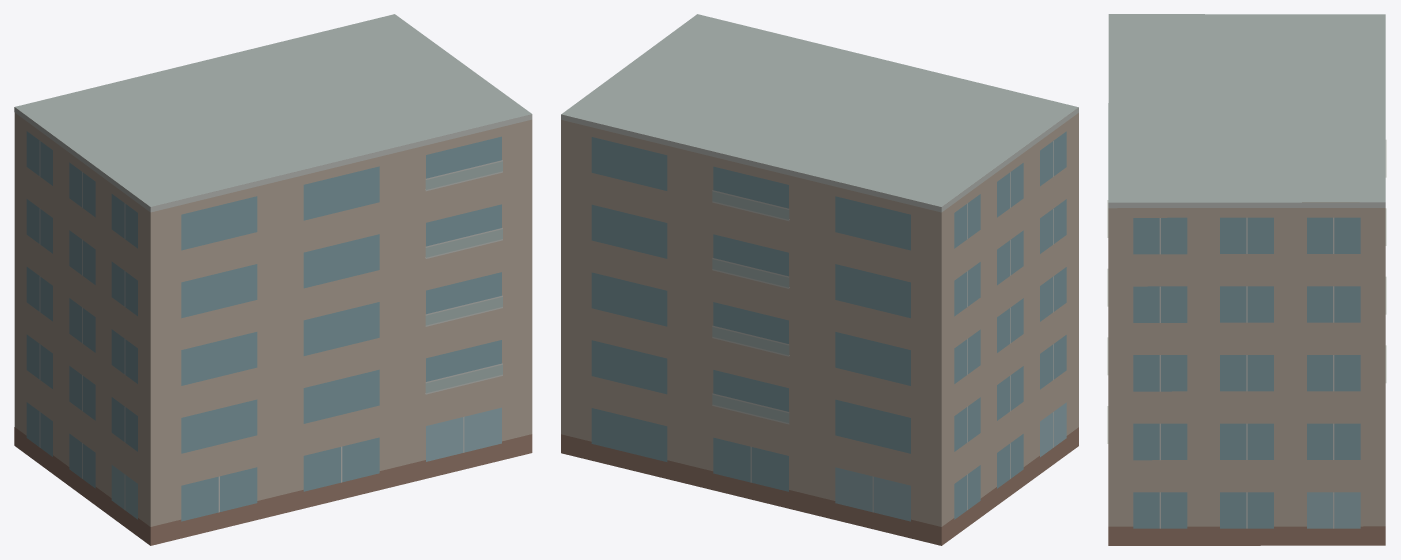
The model's file is survey-upis-32607664.glb.
3 renders of one model, left to right at view 1: azimuth 30°, elevation 25°; view 2: azimuth 150°, elevation 25°; view 3: azimuth 270°, elevation 25°, orthographic.
Visible parts, largest first — view 1: survey-upis-32607664.tmp; view 2: survey-upis-32607664.tmp; view 3: survey-upis-32607664.tmp.
Boxes of the visible parts, x1=… form: survey-upis-32607664.tmp: x1=14, y1=14, x2=532, y2=545; survey-upis-32607664.tmp: x1=561, y1=14, x2=1078, y2=545; survey-upis-32607664.tmp: x1=1107, y1=14, x2=1386, y2=545.
Size of the model in its own units: 17.99 by 15.25 by 11.25.
